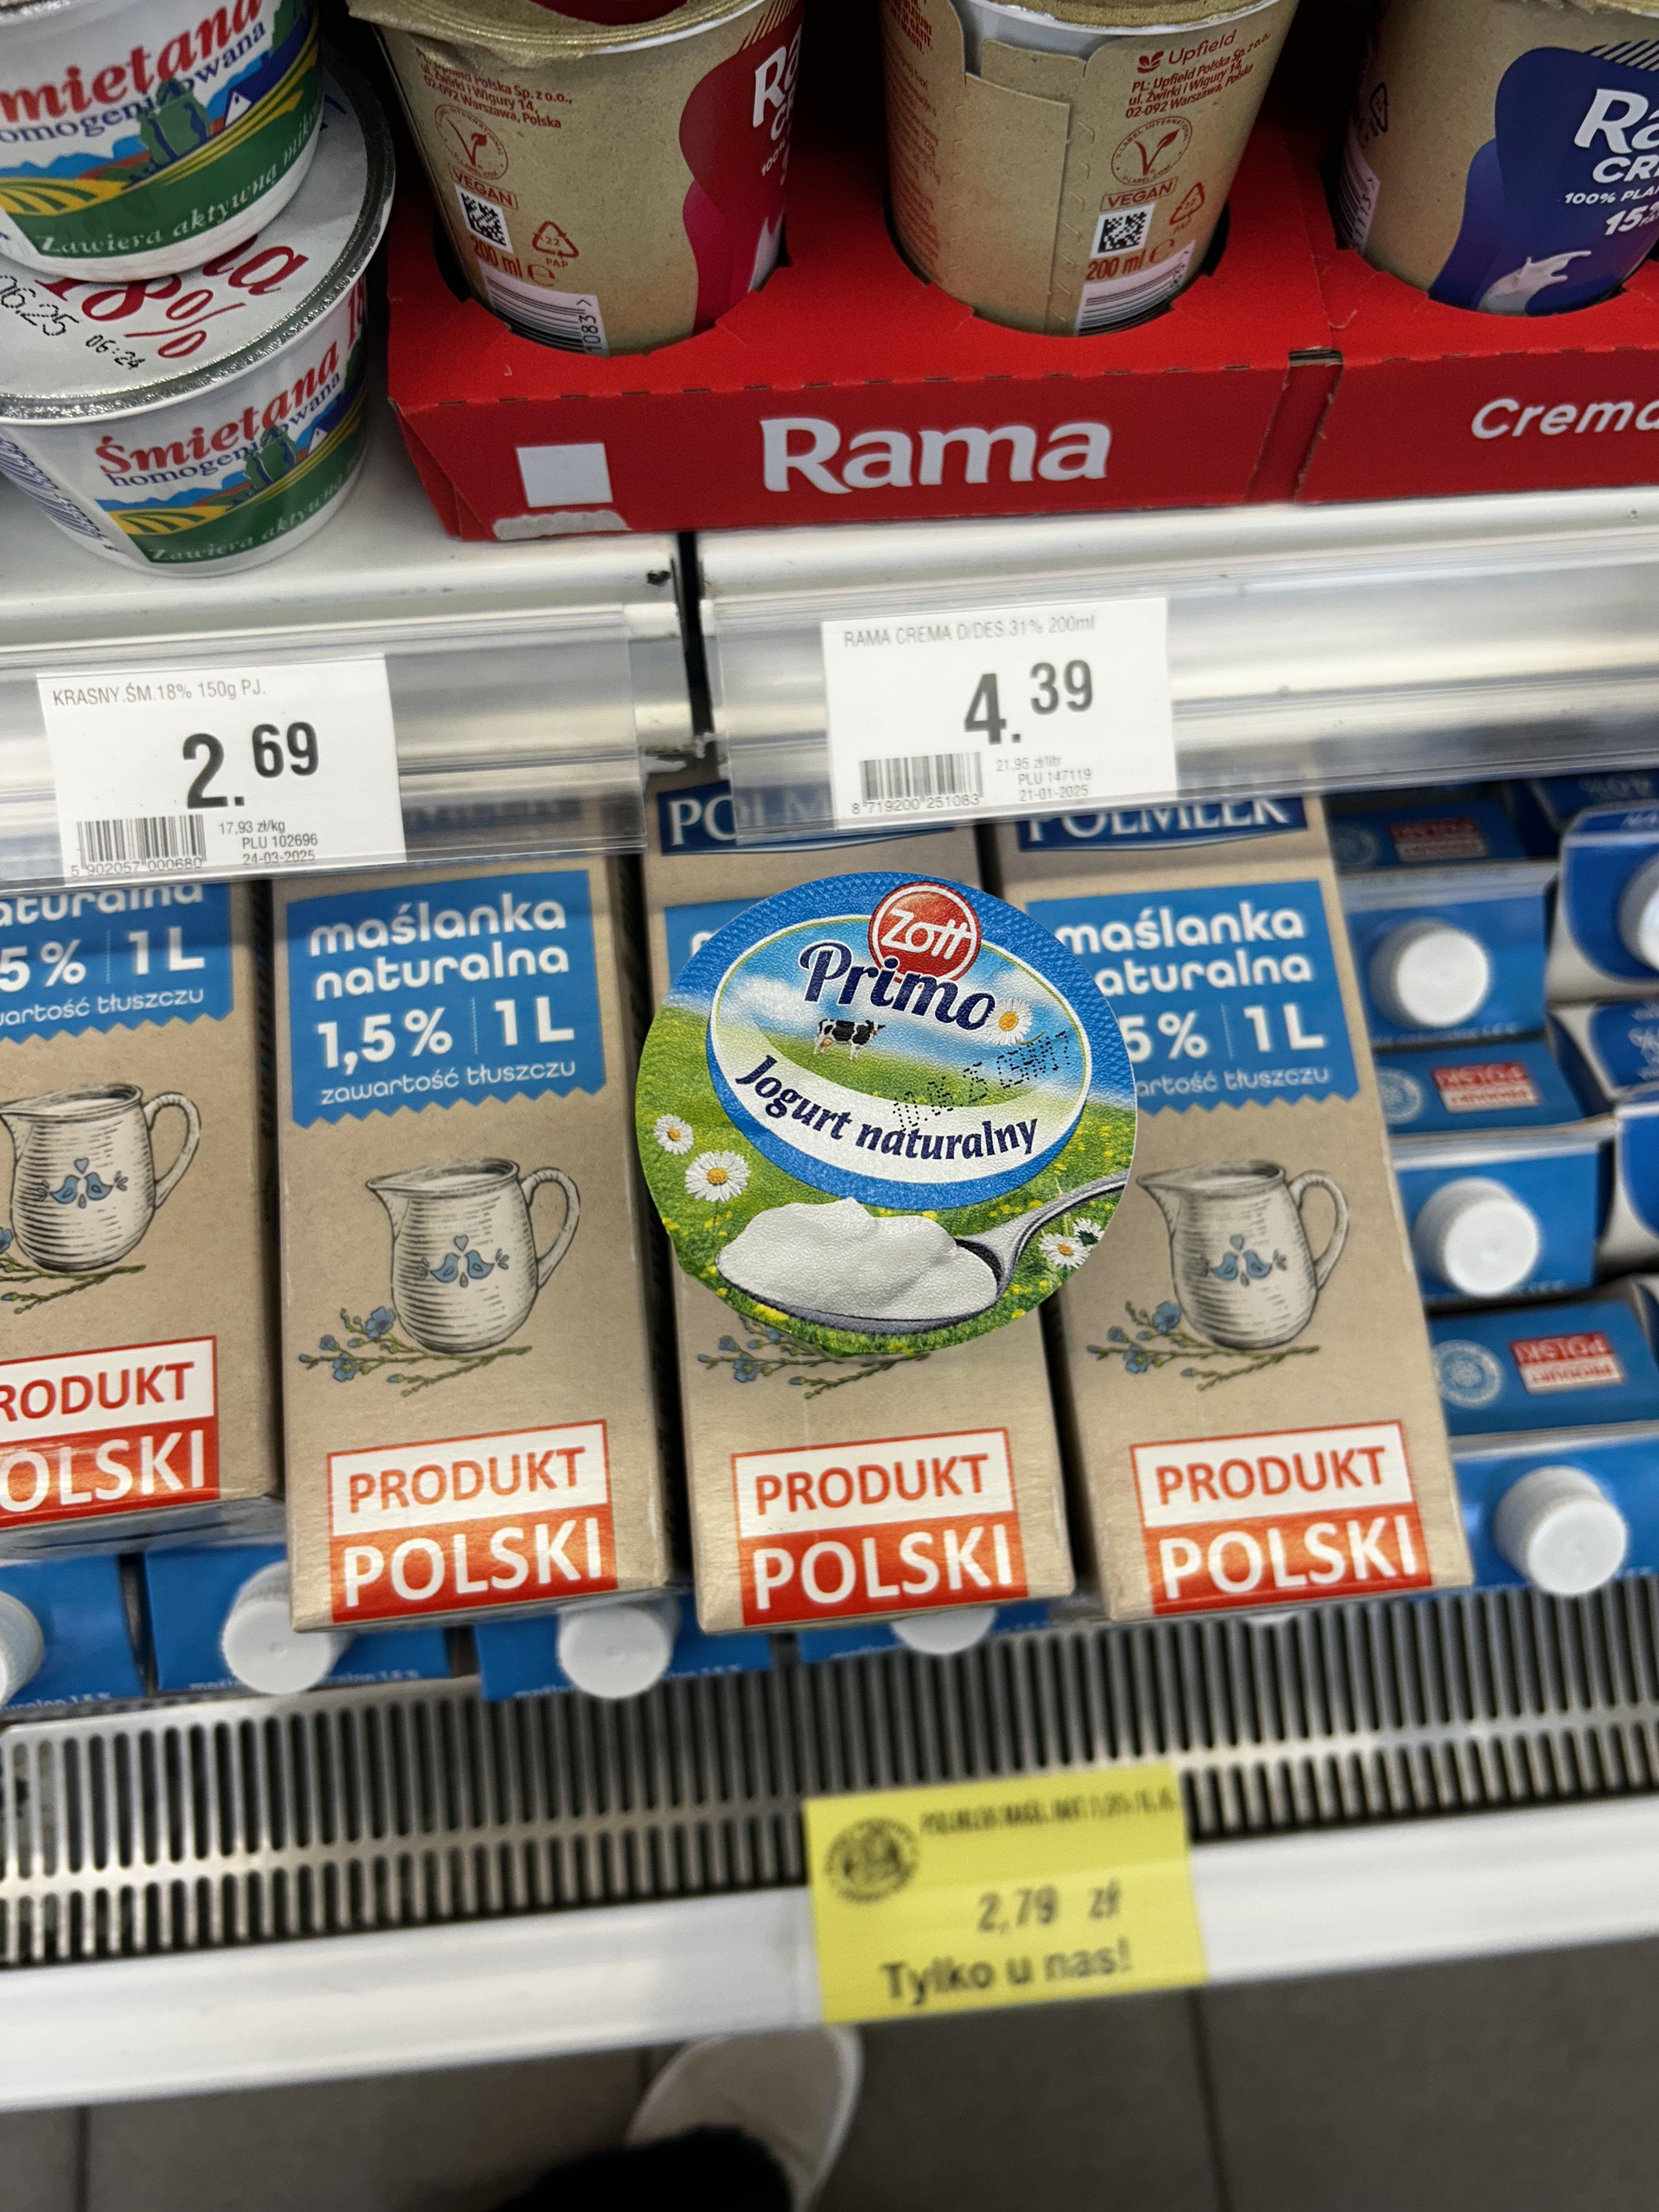Yogurt: (619, 860, 1127, 1350)
